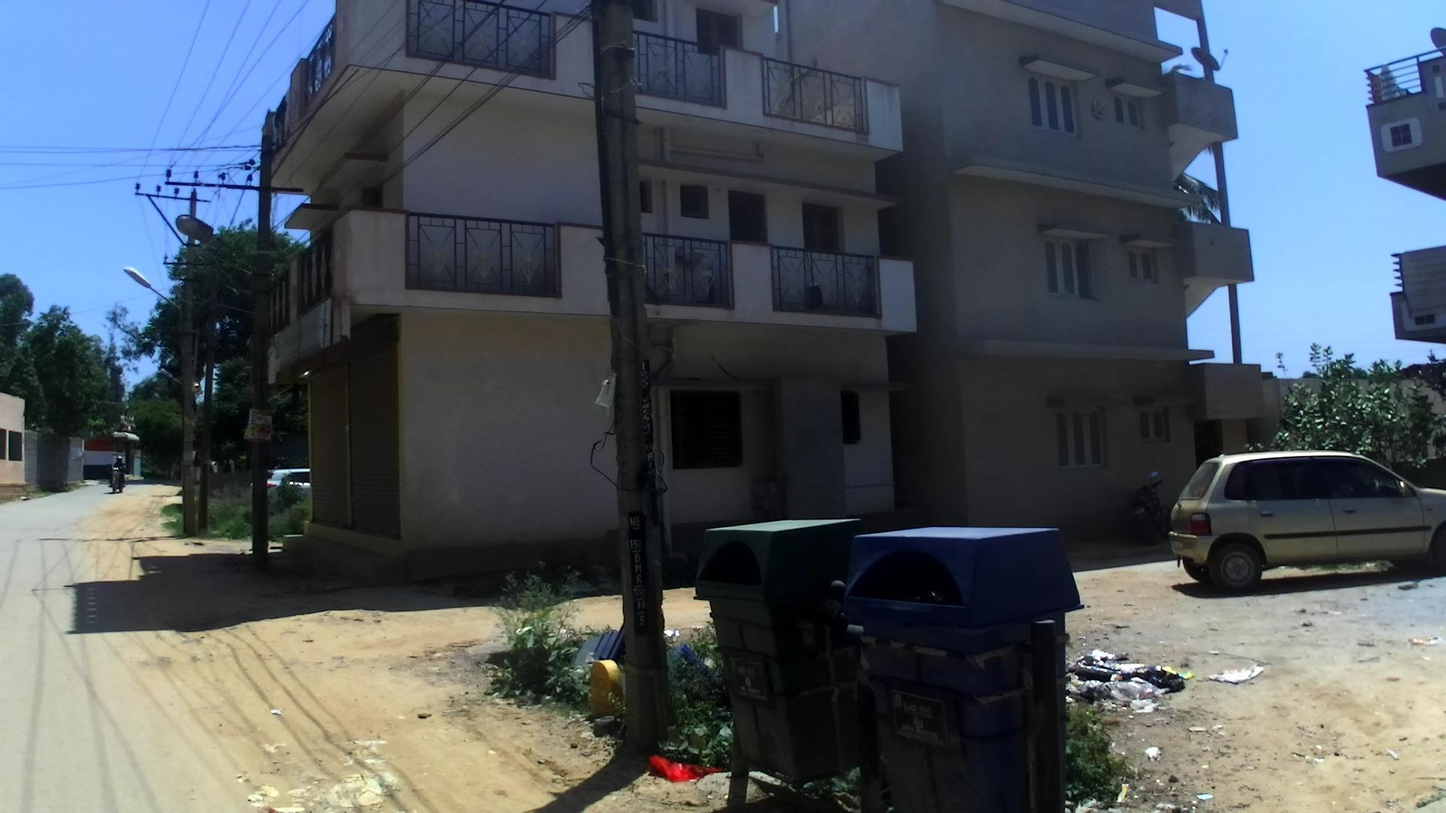streetlight: (175, 215, 270, 303), (124, 267, 195, 349), (160, 369, 182, 386)
